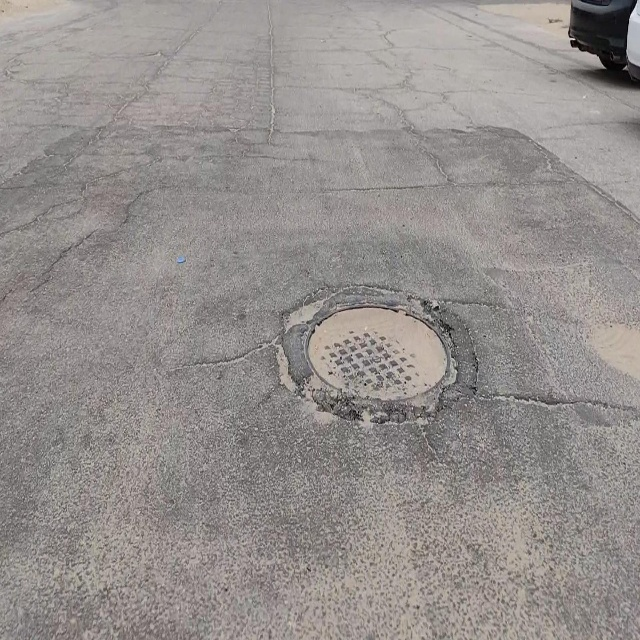pothole: (304, 295, 453, 406)
